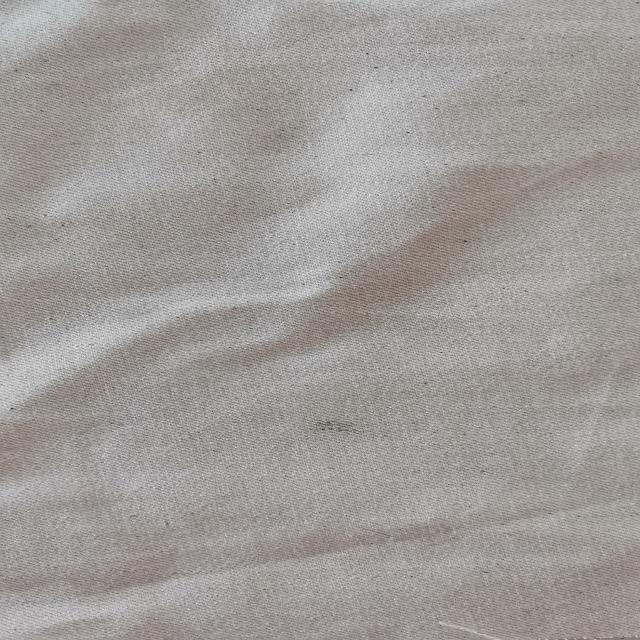taaaches: (284, 402, 390, 448)
